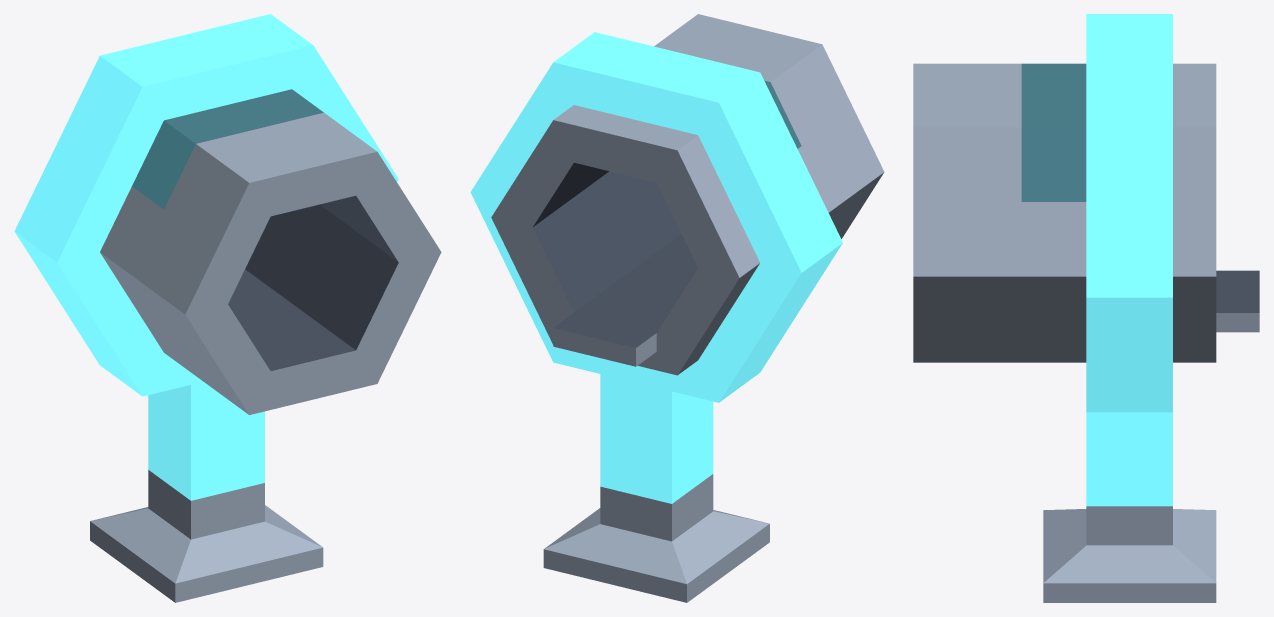
Rendered from pipe_ringHighEnd.glb.
3 renders of one model, left to right at view 1: azimuth 30°, elevation 25°; view 2: azimuth 150°, elevation 25°; view 3: azimuth 270°, elevation 25°, orthographic. The views are drawn at different scales.
Parts seen in each view (by area): view 1: pipe_ringHighEnd; view 2: pipe_ringHighEnd; view 3: pipe_ringHighEnd.
Part boxes in pixels (x1,y1,x2,y2): pipe_ringHighEnd: (14,14,441,602); pipe_ringHighEnd: (470,14,884,602); pipe_ringHighEnd: (913,14,1259,602).
Bounding box in the file's own units: 0.9238 × 1.3 × 0.8.
